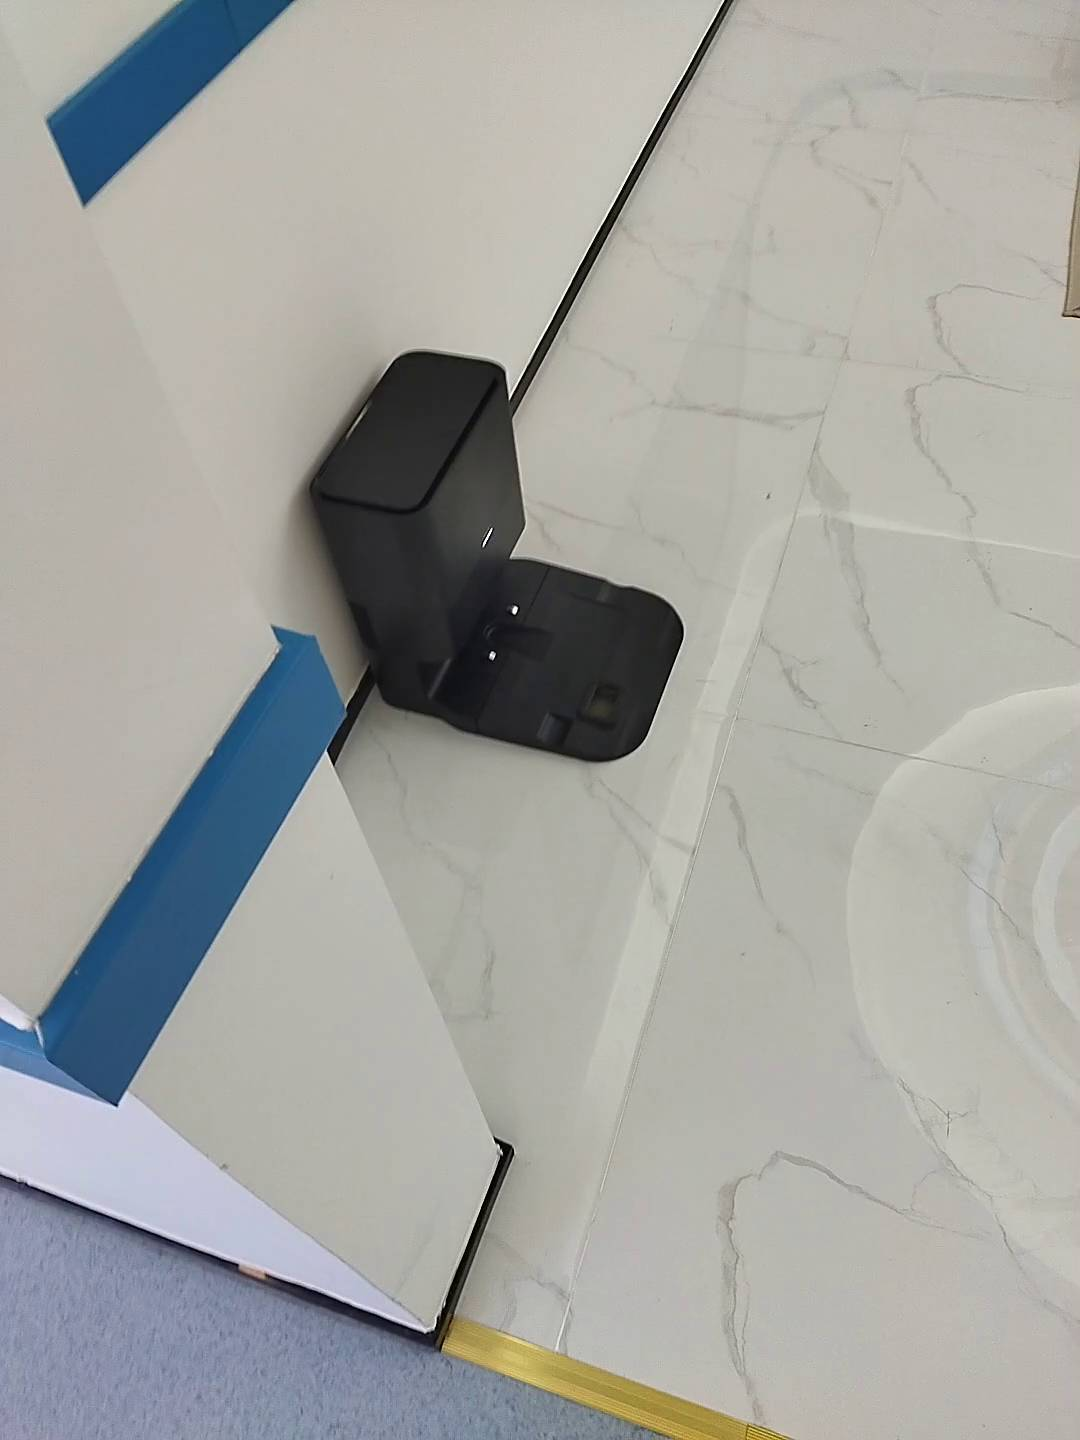dust collecting barrel: (307, 348, 687, 764)
